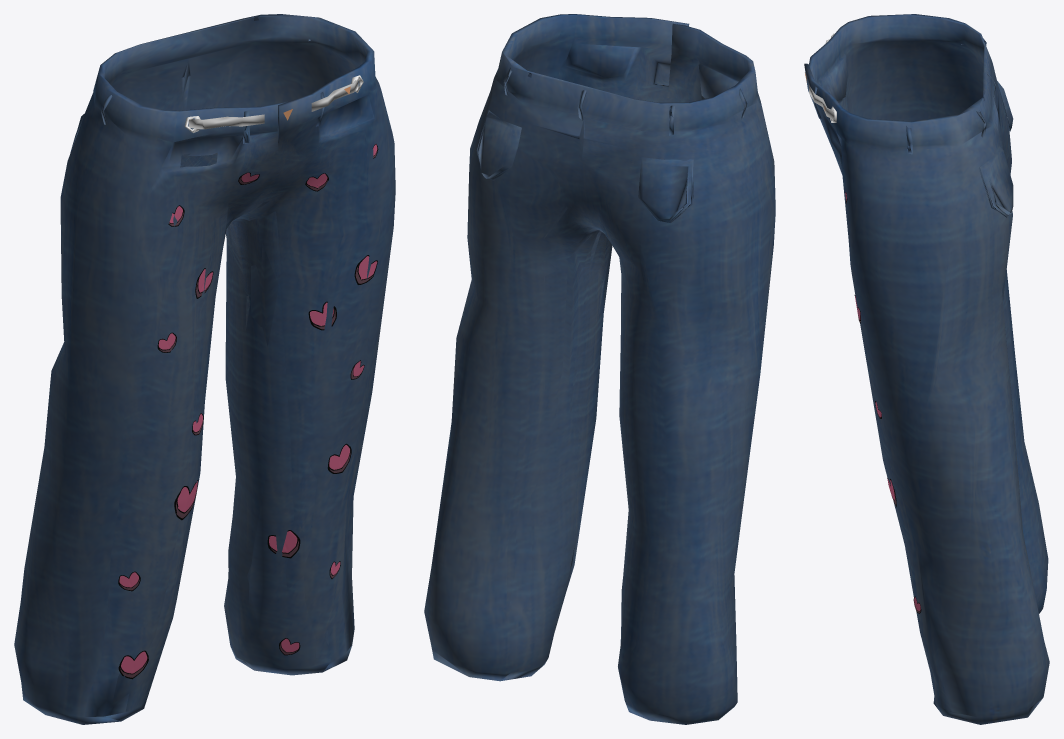
Rendered from Pants.glb.
3 renders of one model, left to right at view 1: azimuth 30°, elevation 25°; view 2: azimuth 150°, elevation 25°; view 3: azimuth 270°, elevation 25°, orthographic. The views are drawn at different scales.
Visible parts, largest first — view 1: Pants; view 2: Pants; view 3: Pants.
Part boxes in pixels (x1,y1,x2,y2): Pants: (14,14,395,724); Pants: (424,14,775,724); Pants: (804,14,1049,724).
Bounding box in the file's own units: 0.3523 × 0.6736 × 0.2532.
Materials: 7 (1 with a texture image).
